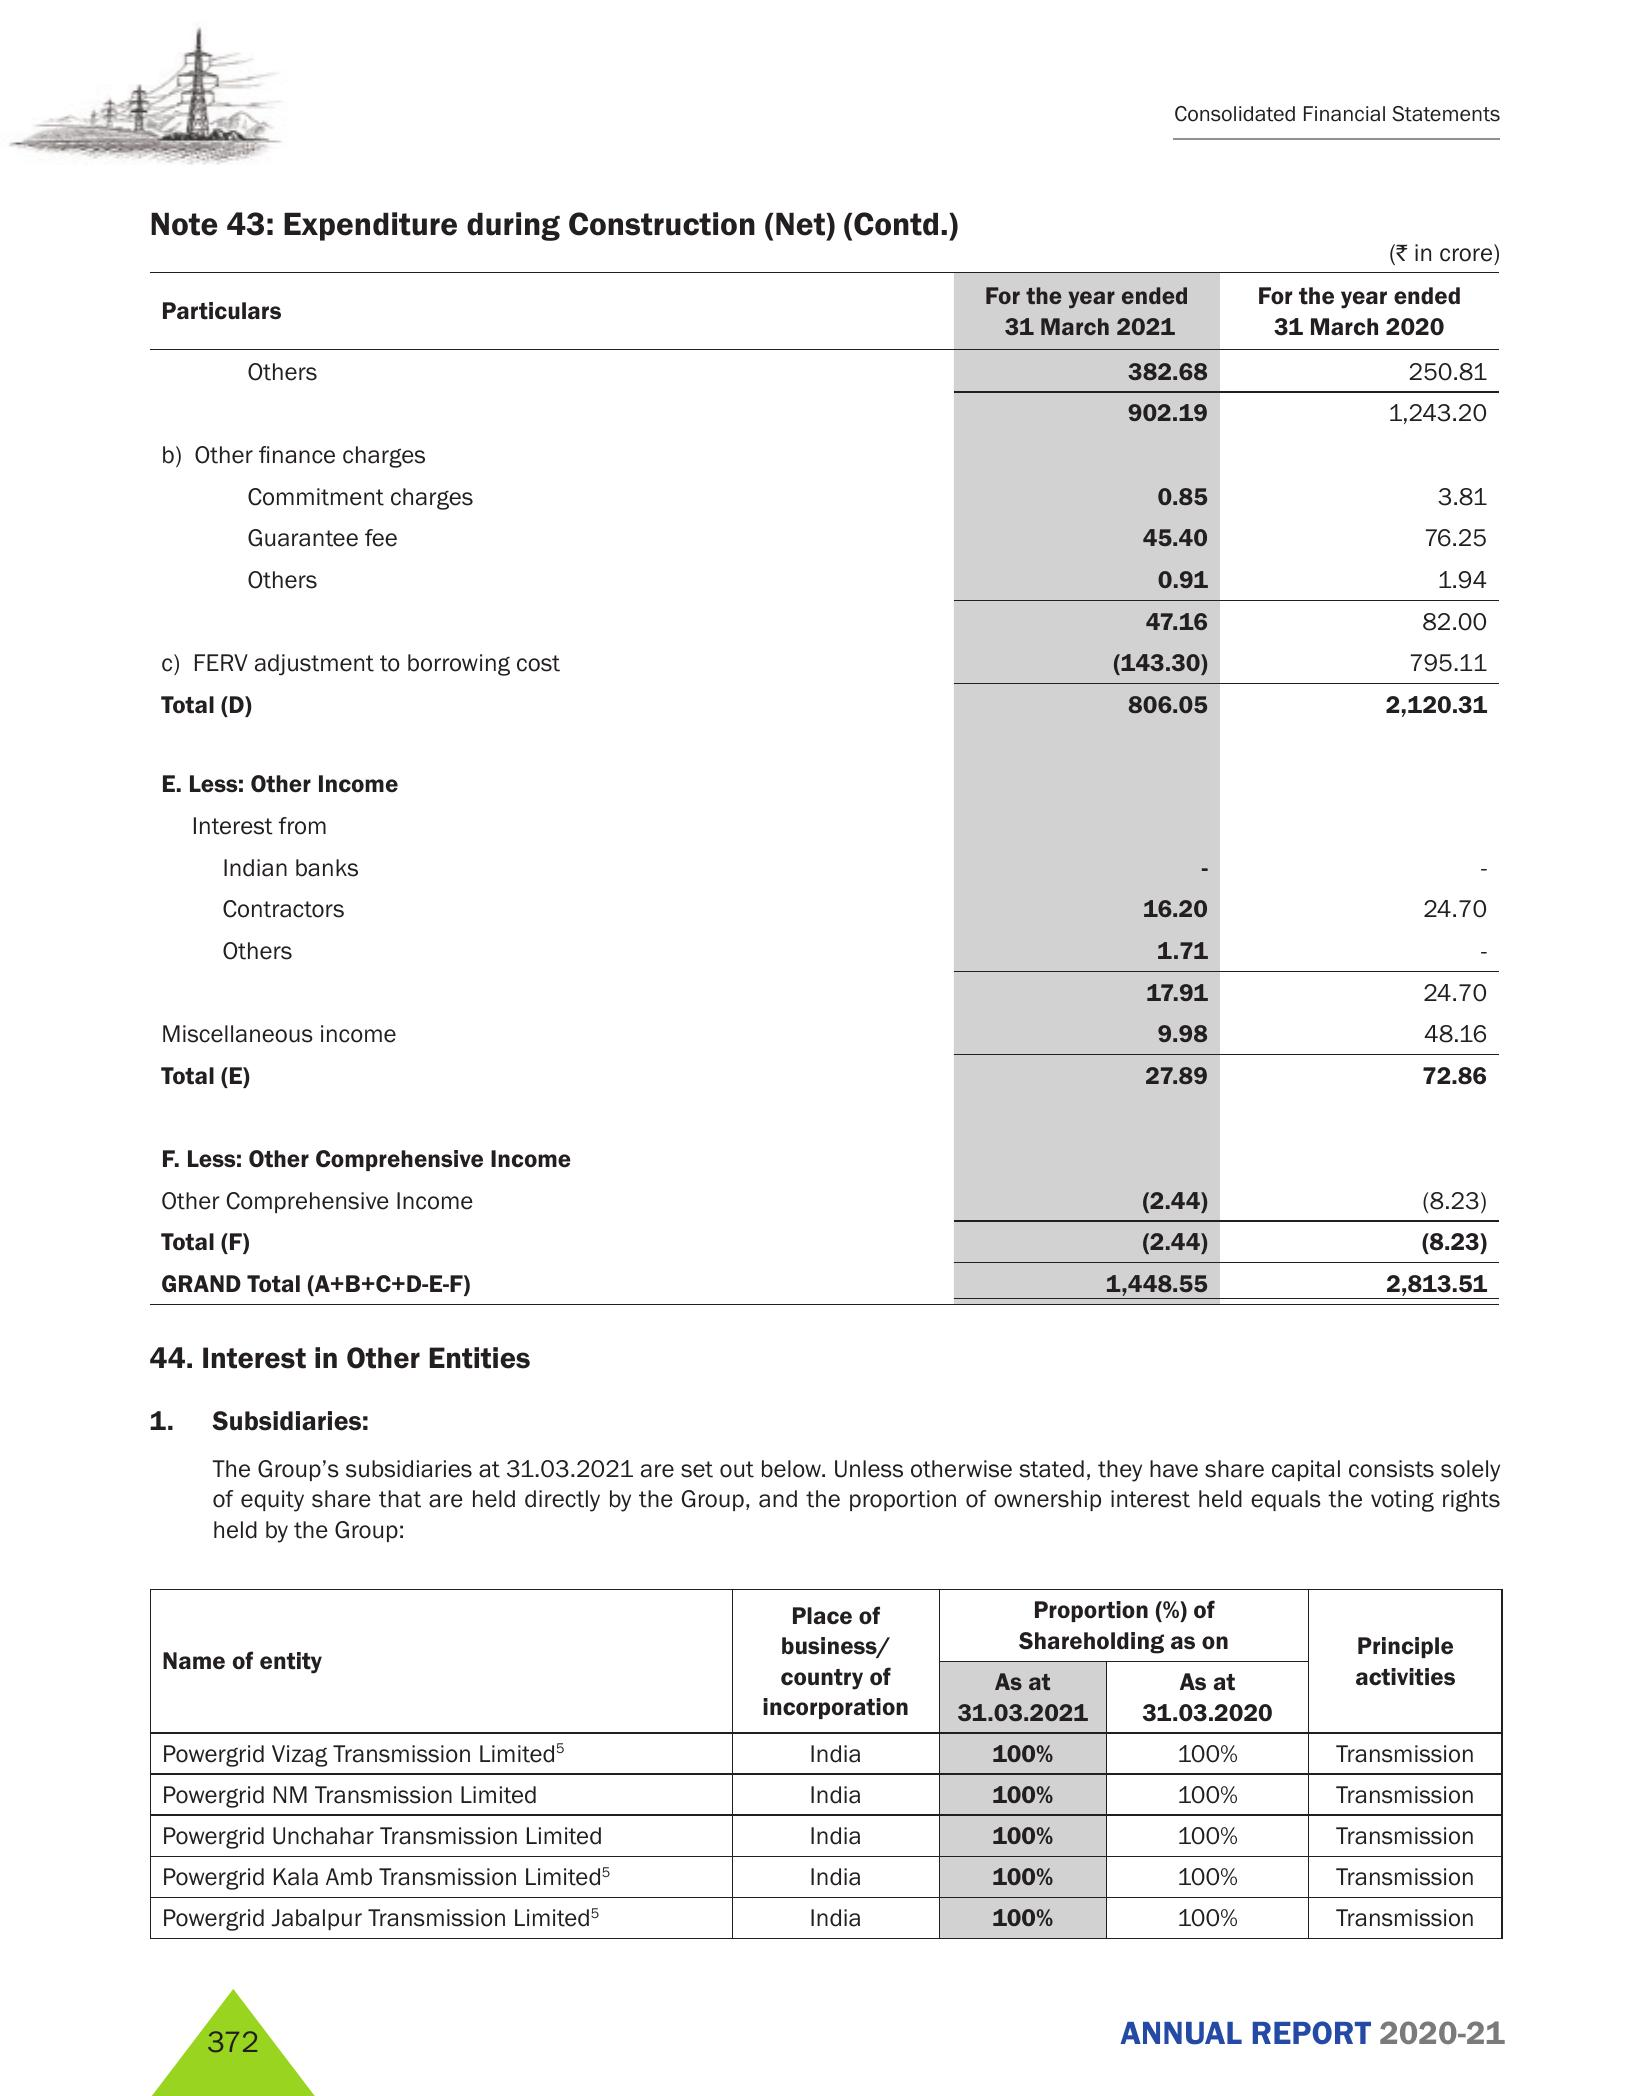Footer: (3, 1974, 1650, 2096)
Header: (0, 0, 1650, 180)
Table: (102, 265, 1545, 1300), (139, 1581, 1528, 1950)
